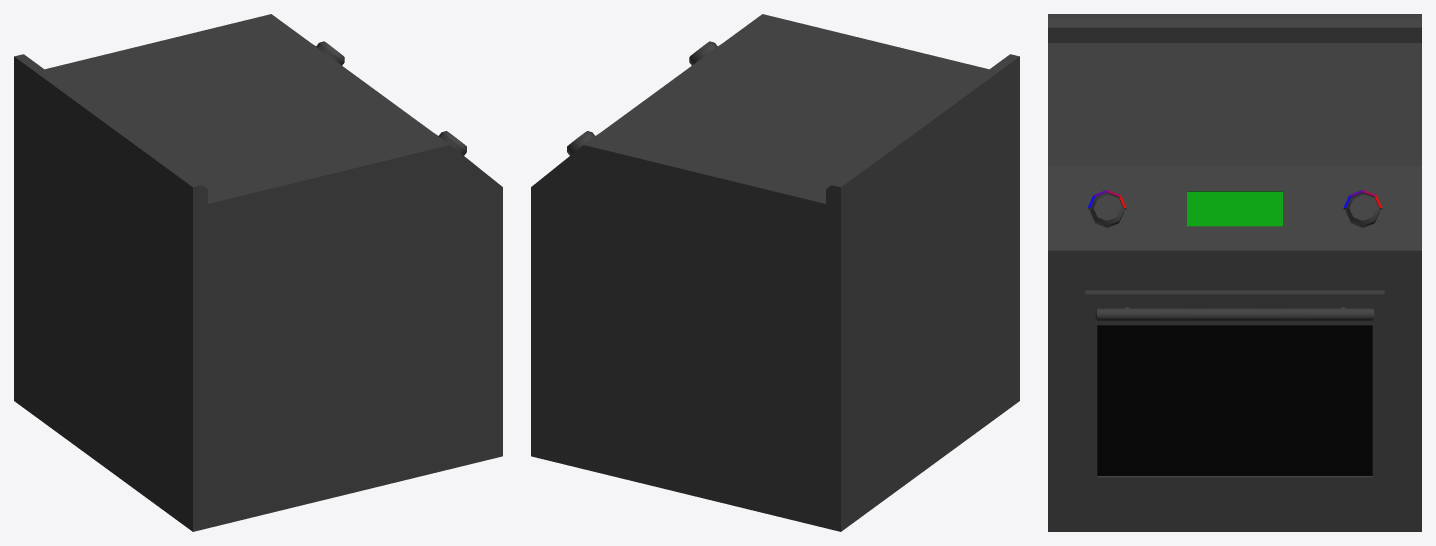
File: oven.obj
The picture shows the model from 3 angles, left to right: view 1: azimuth 30°, elevation 25°; view 2: azimuth 150°, elevation 25°; view 3: azimuth 270°, elevation 25°; orthographic projection. The views are drawn at different scales.
Parts seen in each view (by area): view 1: Cube, Circle.001; view 2: Cube, Circle.001; view 3: Cube, Cube.002, Cube.001, Circle, Cube.003, Circle.001.
Part boxes in pixels (left/top/right/bottom): Cube: left=14, top=14, right=502, bottom=531; Circle.001: left=316, top=41, right=466, bottom=155; Cube: left=531, top=14, right=1019, bottom=531; Circle.001: left=567, top=41, right=717, bottom=155; Cube: left=1048, top=14, right=1421, bottom=531; Cube.002: left=1097, top=325, right=1372, bottom=475; Cube.001: left=1085, top=290, right=1384, bottom=485; Circle: left=1095, top=307, right=1374, bottom=320; Cube.003: left=1187, top=191, right=1282, bottom=226; Circle.001: left=1090, top=194, right=1379, bottom=227.
Bounding box in the file's own units: 2.14 × 2.13 × 2.
